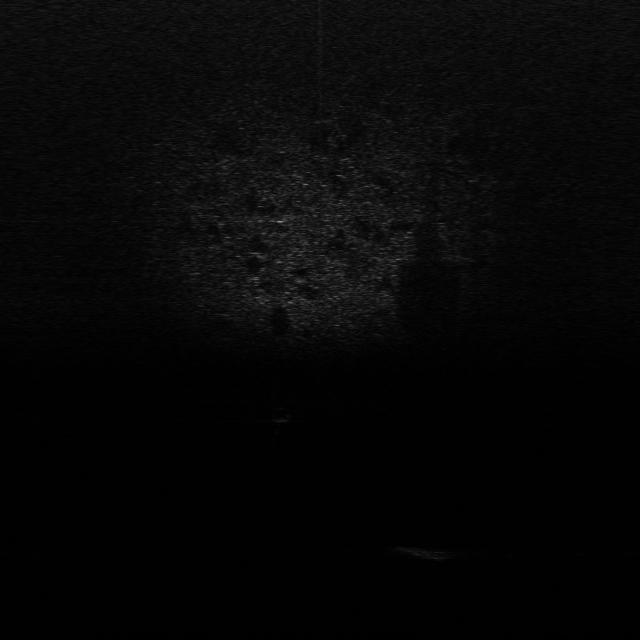ball: (262, 402, 296, 426)
metal bucket: (408, 541, 471, 564)
